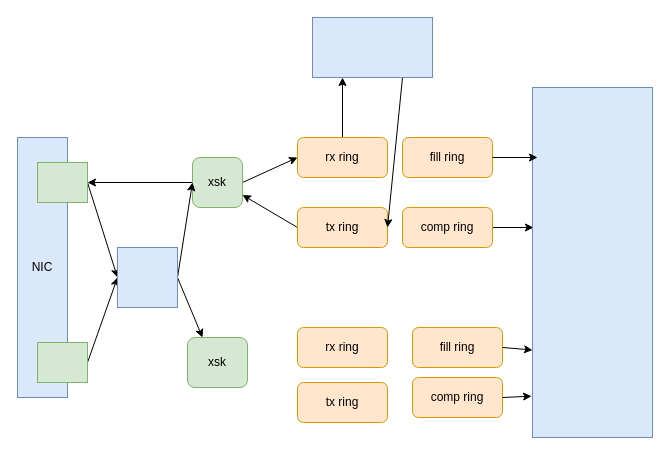
Some shapes in this 670 by 455 pixel diagram are drawn without their labels. The centre of each missing label's shape, as x and y in pixels:
application: the point at 372,47
ebpf redirect: the point at 147,277
queue 0: the point at 62,182
queue 1: the point at 62,362
UMEM: the point at 592,262
